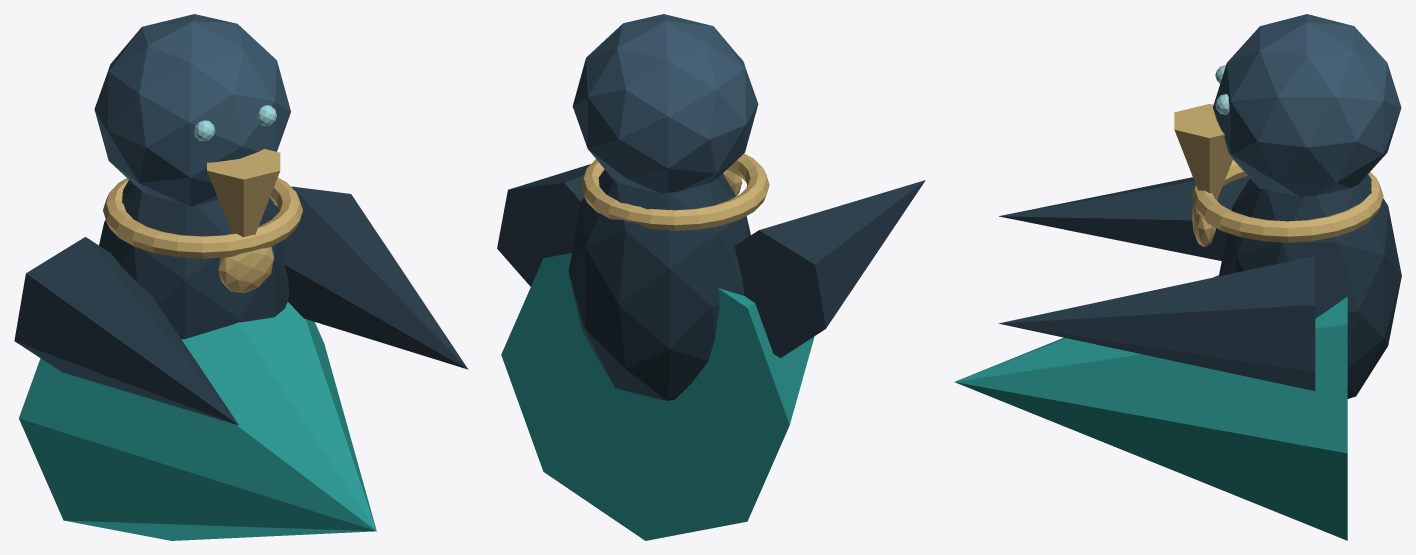
The model's file is tal.glb.
3 renders of one model, left to right at view 1: azimuth 30°, elevation 25°; view 2: azimuth 150°, elevation 25°; view 3: azimuth 270°, elevation 25°, orthographic. The views are drawn at different scales.
Visible parts, largest first — view 1: cloak, head, wing_0, wing_1, body, collar, beak, medallion; view 2: cloak, body, head, wing_0, wing_1, collar; view 3: cloak, head, wing_1, body, wing_0, collar, beak, medallion.
Part boxes in pixels (bbox=[...]): cloak: bbox=[19, 301, 376, 540]; head: bbox=[94, 14, 290, 206]; wing_0: bbox=[14, 237, 238, 425]; wing_1: bbox=[275, 186, 468, 369]; body: bbox=[99, 180, 289, 339]; collar: bbox=[103, 177, 302, 258]; beak: bbox=[207, 149, 280, 237]; medallion: bbox=[218, 247, 273, 292]; cloak: bbox=[501, 253, 814, 540]; body: bbox=[568, 169, 750, 401]; head: bbox=[572, 14, 758, 193]; wing_0: bbox=[734, 180, 925, 358]; wing_1: bbox=[497, 164, 590, 286]; collar: bbox=[580, 153, 769, 230]; cloak: bbox=[954, 275, 1347, 540]; head: bbox=[1213, 14, 1401, 196]; wing_1: bbox=[998, 256, 1315, 390]; body: bbox=[1219, 174, 1401, 398]; wing_0: bbox=[999, 176, 1249, 260]; collar: bbox=[1191, 160, 1383, 242]; beak: bbox=[1174, 104, 1232, 199]; medallion: bbox=[1191, 203, 1215, 247].
Bounding box in the file's own units: 2.37 × 3.48 × 2.75.
